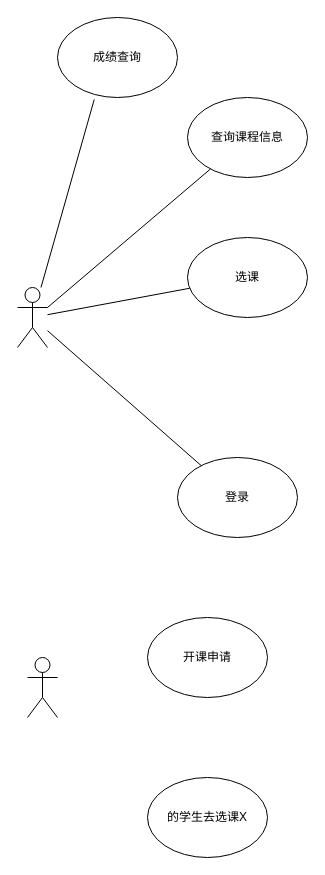
Image size: 325x875. Some labels were removed from this diagram. The shapes that lost their labels are listed below. From the top down, each one's centre as x and y in pixels, then its label:
At point 32,317: "学生".
At point 42,687: "老师".
